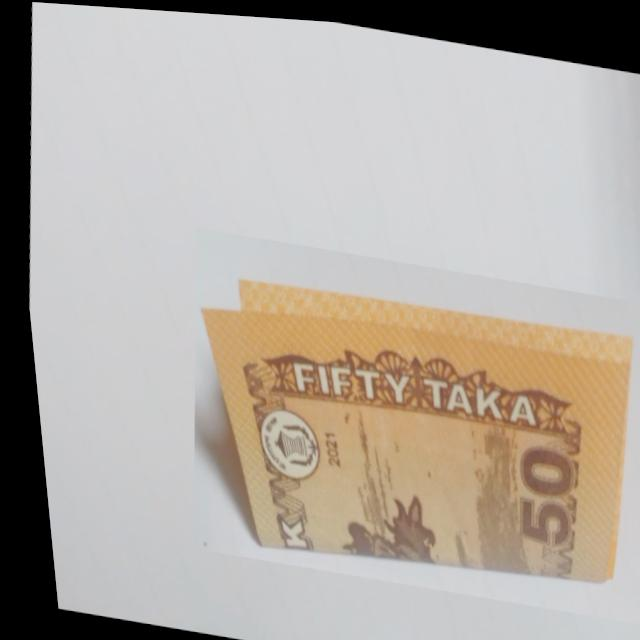Taka: (157, 223, 640, 617)
